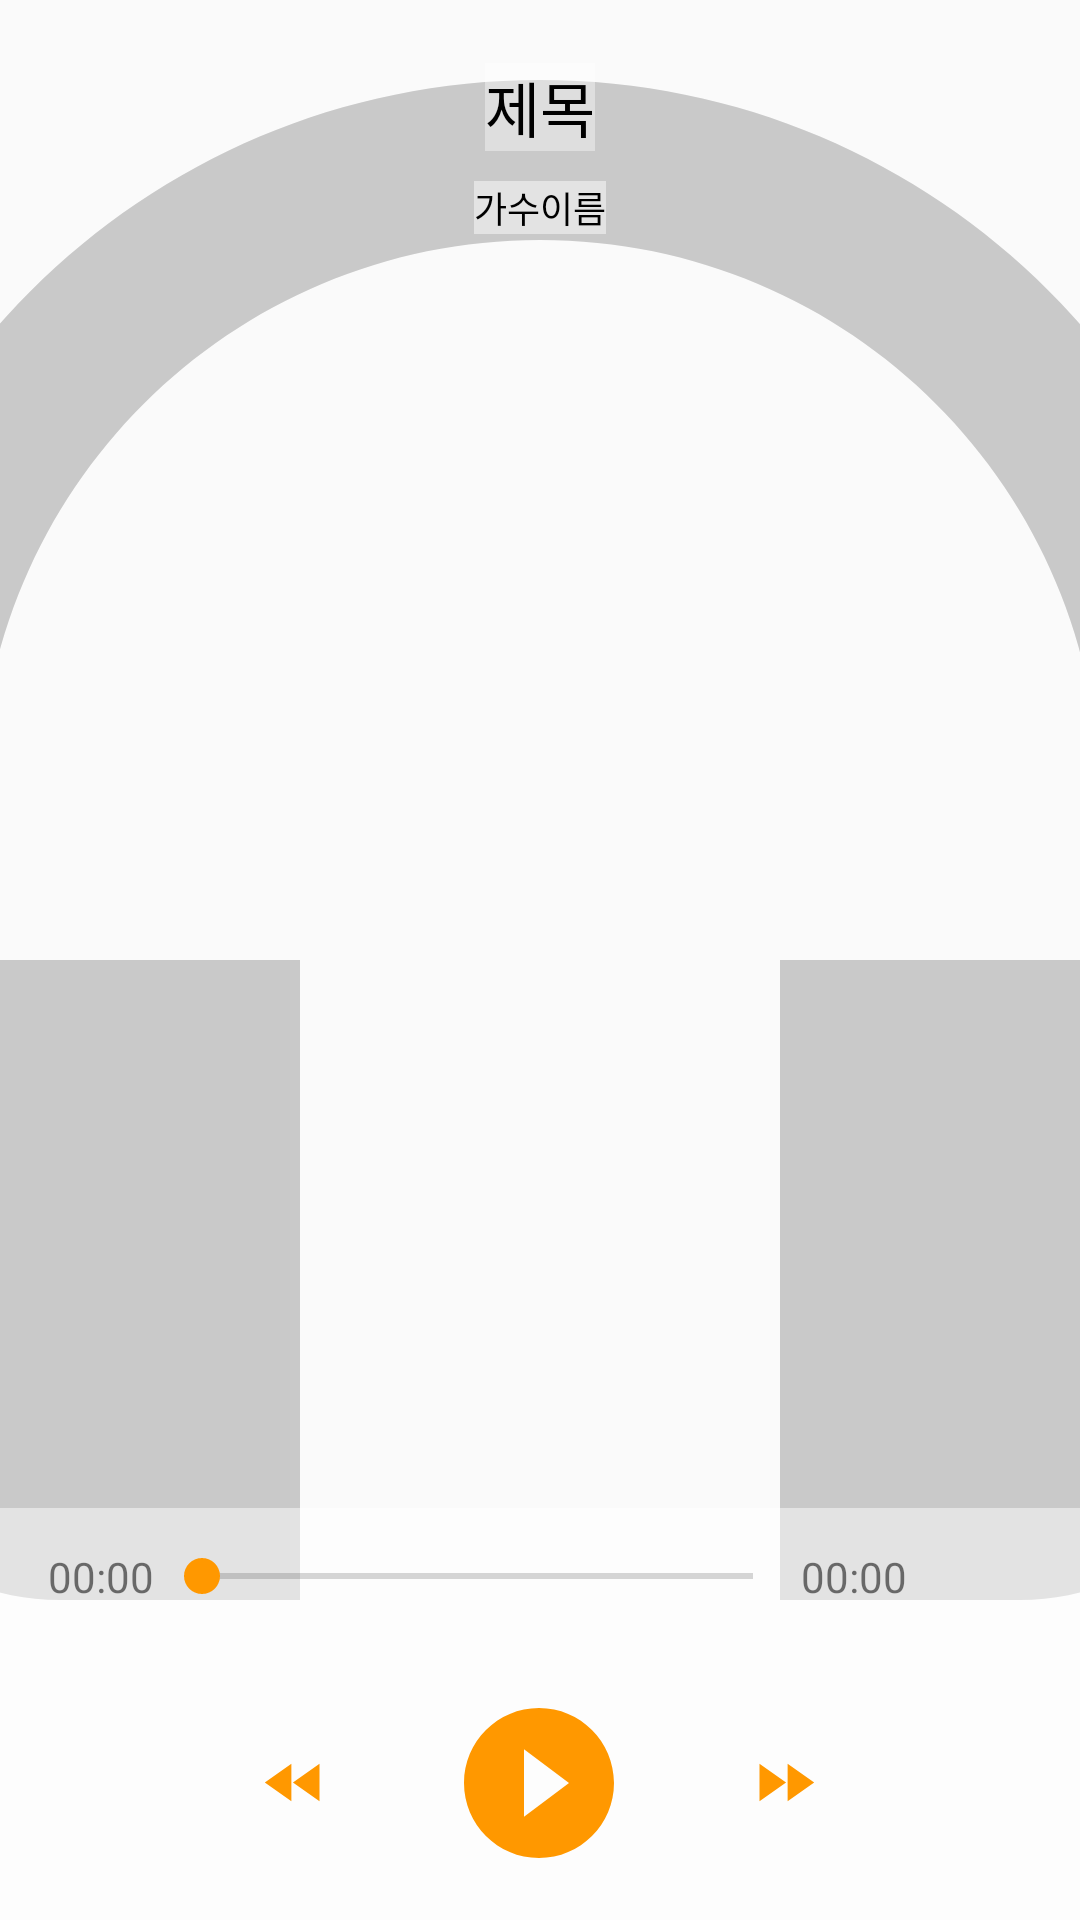

Locate icon controls on the screen. Image size 1080px x 1920px, boxes as (x1, y1, x2, y2).
next: (759, 1764, 814, 1801)
play circle: (464, 1708, 614, 1858)
previous: (265, 1764, 320, 1801)
